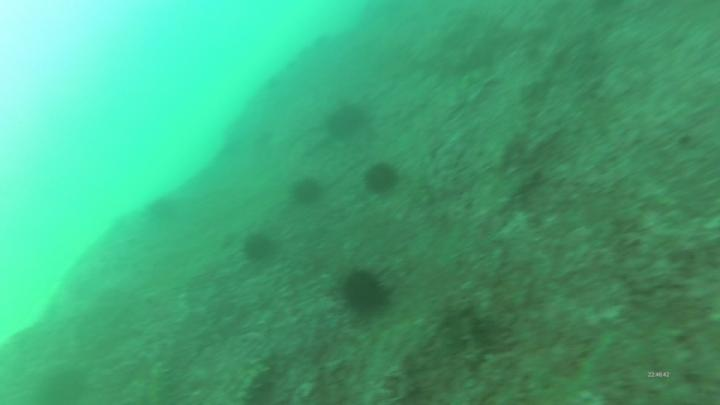echinus: (335, 266, 393, 321), (324, 102, 367, 144), (363, 160, 401, 197), (239, 228, 277, 264), (289, 175, 326, 210), (147, 196, 182, 224)
holothurian: (228, 361, 272, 405), (142, 360, 178, 405)
